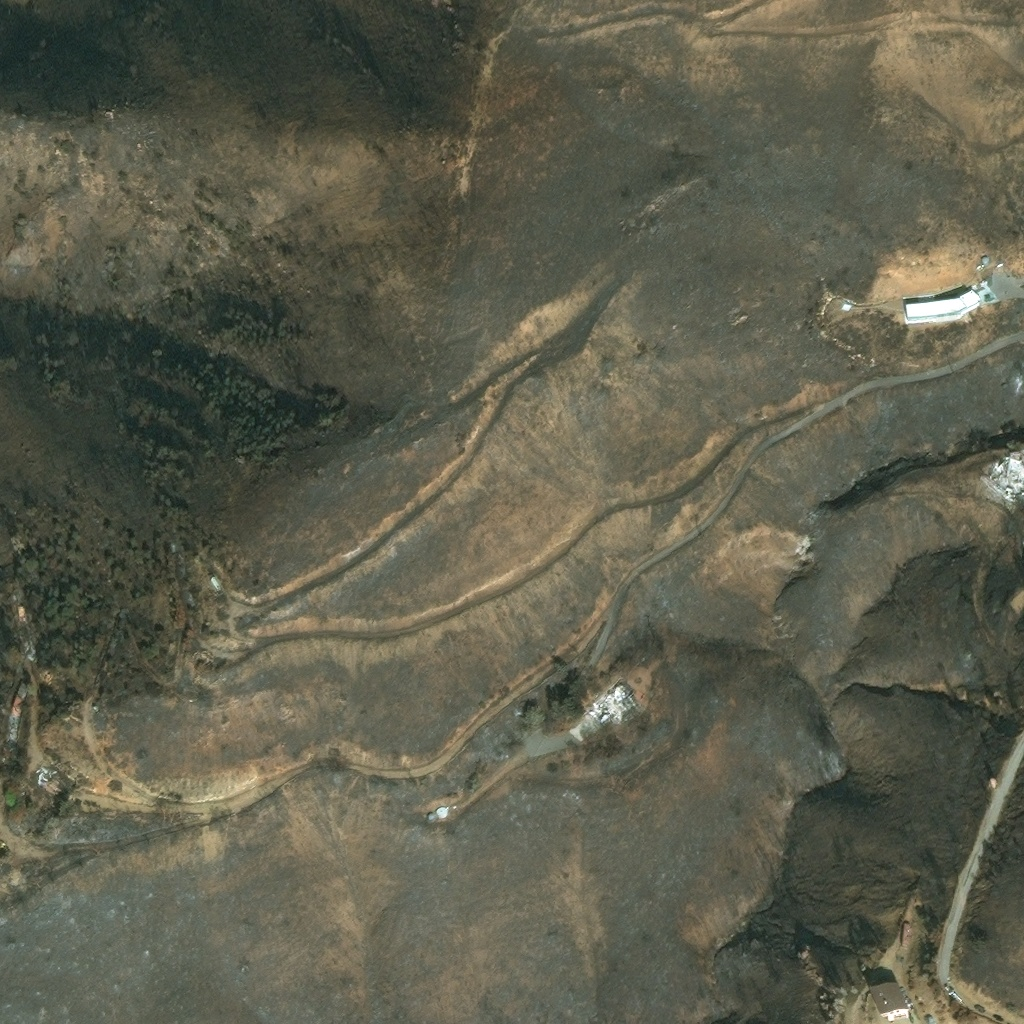0 no-damage: (902, 288, 983, 326), (868, 982, 909, 1017), (878, 1011, 910, 1022), (209, 576, 222, 592), (434, 807, 448, 819), (916, 293, 934, 301), (983, 291, 997, 301), (840, 302, 852, 312), (922, 1014, 935, 1023), (426, 813, 434, 821), (91, 704, 98, 711)
3 destroyed: (580, 678, 638, 731), (976, 445, 1023, 506), (32, 761, 56, 786)
